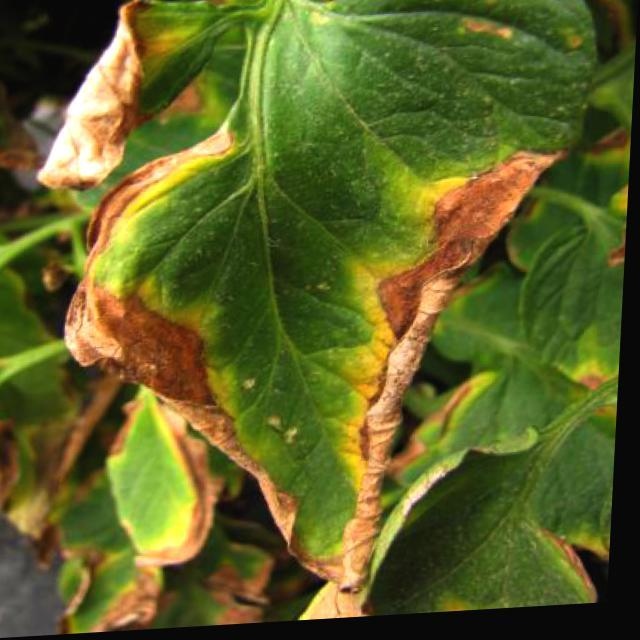Tomato late blight leaf: (7, 0, 618, 622)
